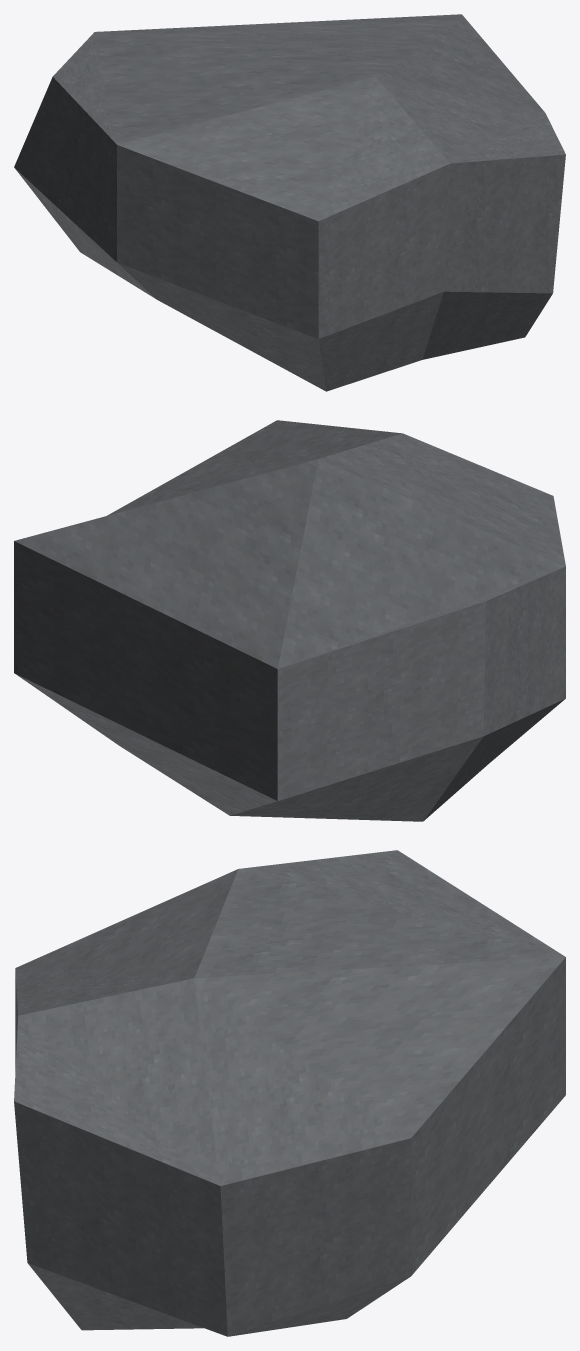
Rendered from Rock5.glb.
3 views of the same model, one above another, from view 1: azimuth 30°, elevation 25°; view 2: azimuth 150°, elevation 25°; view 3: azimuth 270°, elevation 25° (orthographic). The views are drawn at different scales.
Parts seen in each view (by area): view 1: Rock_14; view 2: Rock_14; view 3: Rock_14.
Boxes of the visible parts, x1,y1,x2,y2 form: Rock_14: (14,14,565,391); Rock_14: (14,420,565,821); Rock_14: (14,850,565,1336).
Bounding box in the file's own units: 3.87 × 2.16 × 3.62.
1 material, 1 textured.
